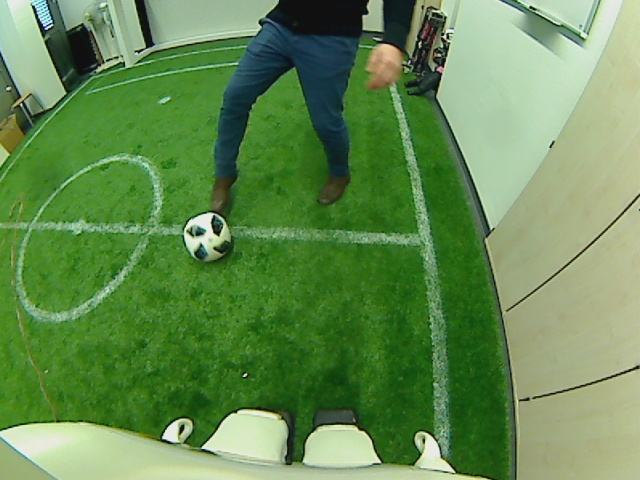ball: (181, 212, 234, 263)
